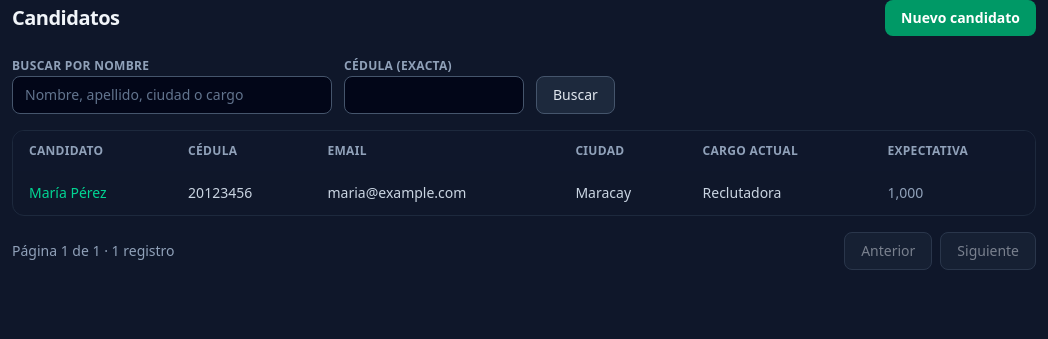
listado y búsqueda de candidatos › una cédula mal formada avisa en cliente y NO consulta a la API
Expected: the link "María Pérez" is shown, [29, 183, 107, 202]
Type "12a" into the field labelled "Cédula (exacta)" at (434, 95), box [344, 76, 524, 114]
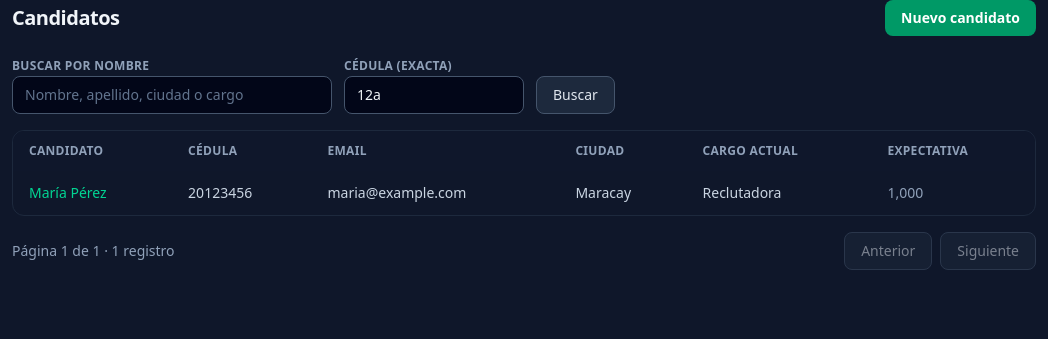
Click the button "Buscar" at (575, 95), box [536, 76, 615, 114]
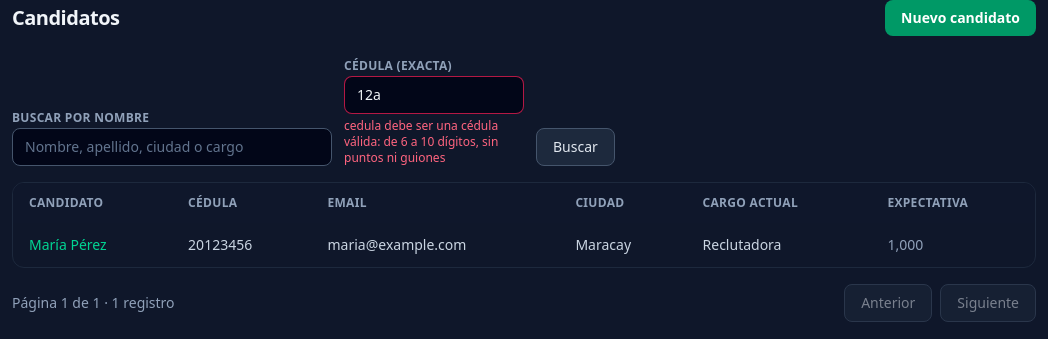
Expected: the text "cedula debe ser una cédula válida: de 6 a 10 dígitos, sin puntos ni guiones" is shown, [344, 118, 524, 166]
